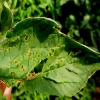Tomato leaf bacterial spot: (2, 13, 98, 94)
